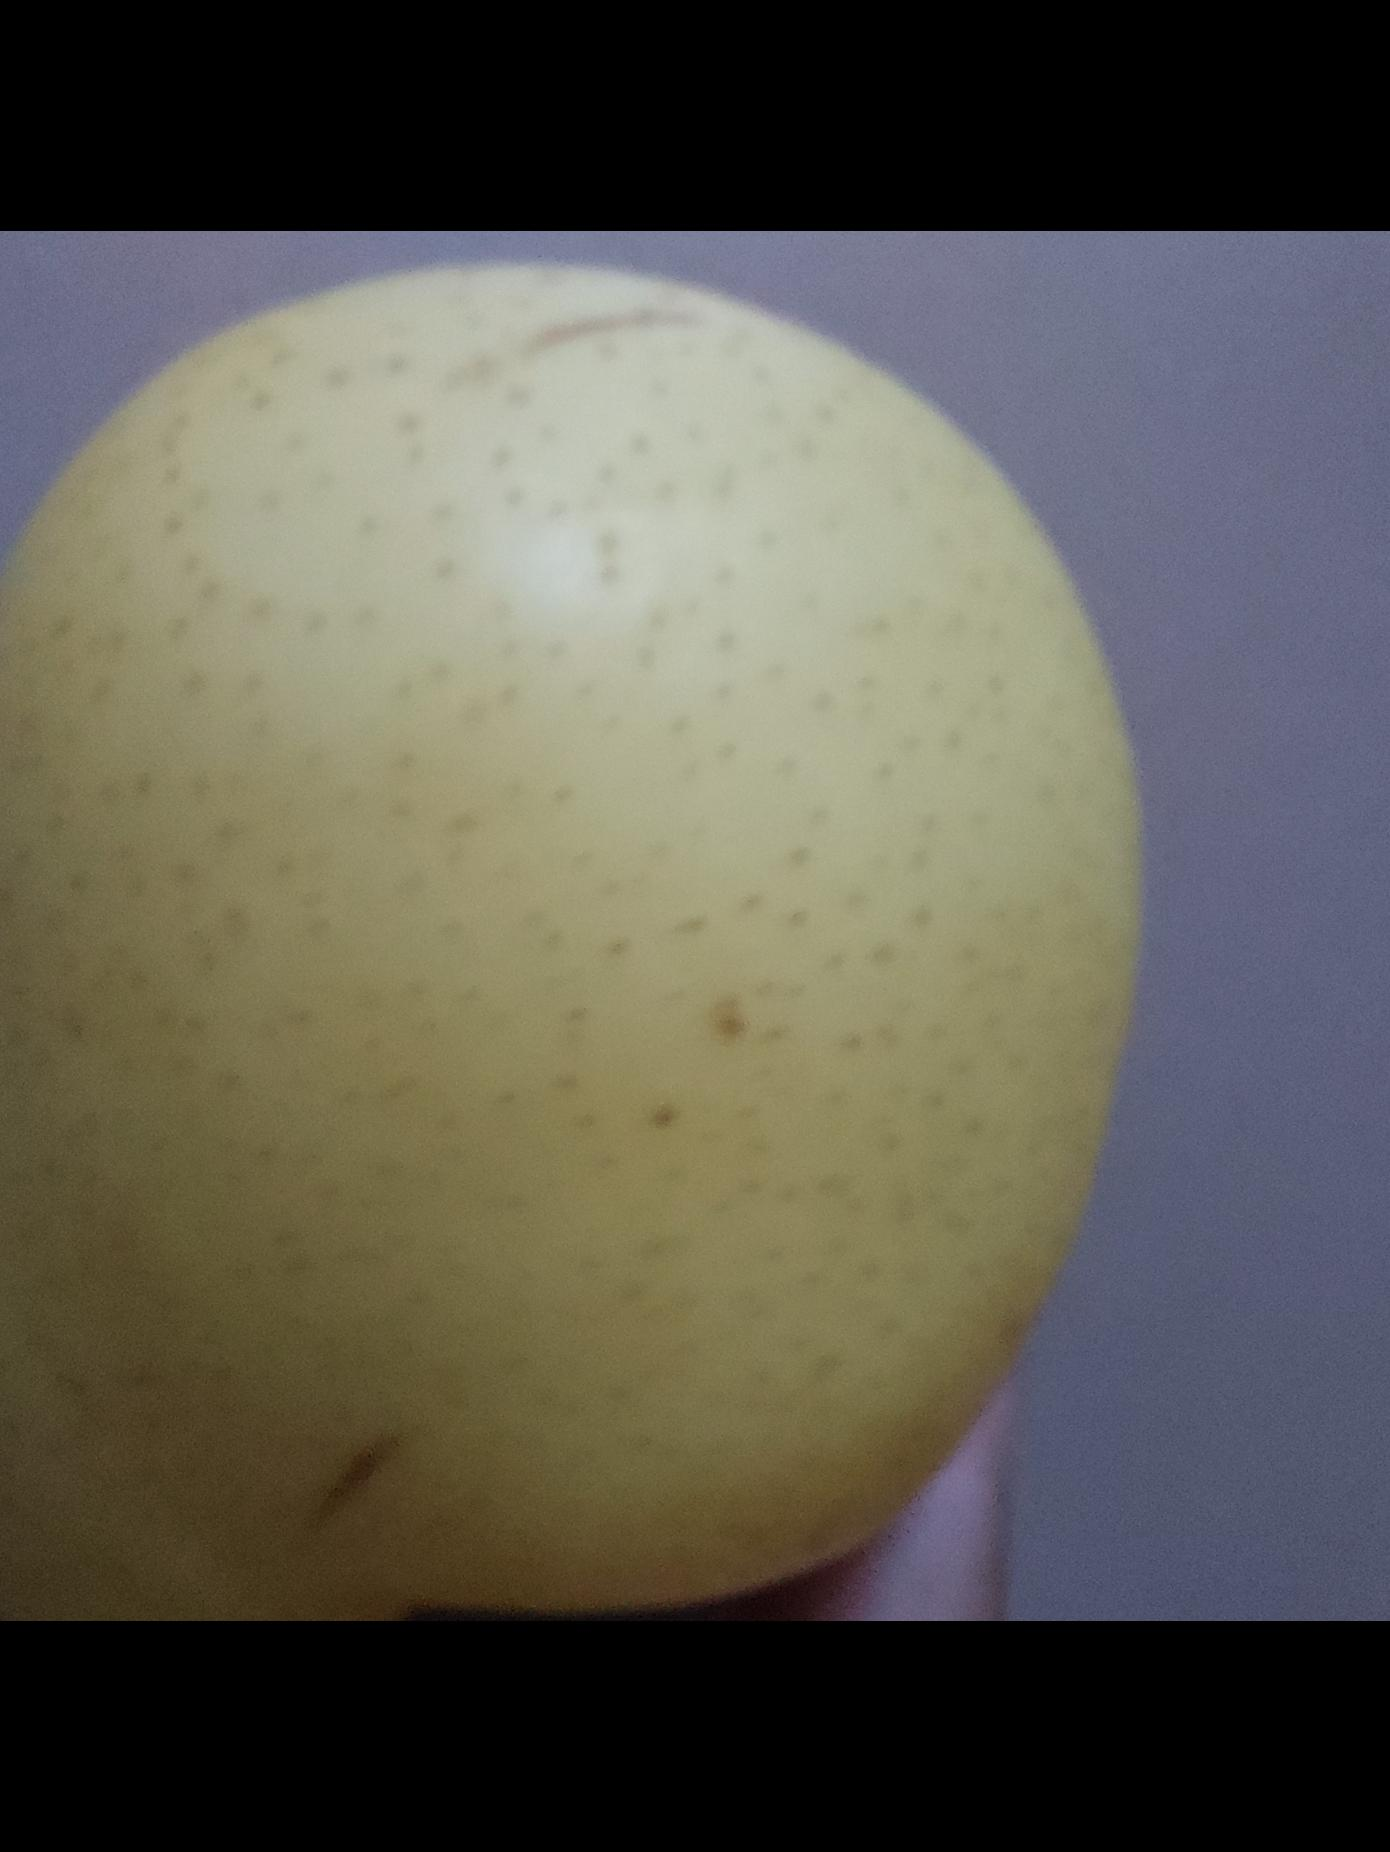Good Pear: (0, 244, 1155, 1621)
